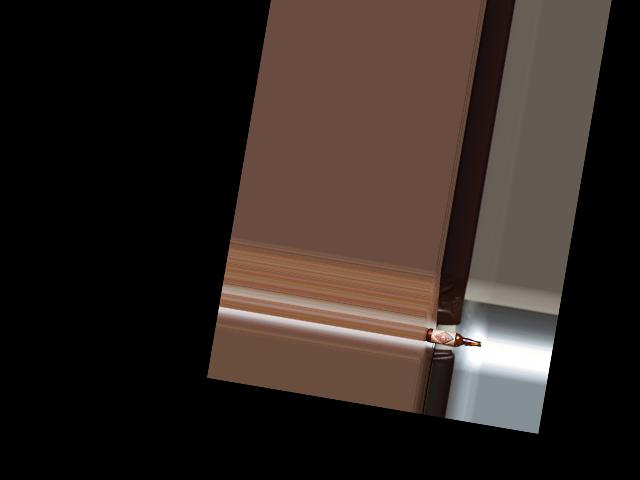beer: (425, 328, 481, 351)
